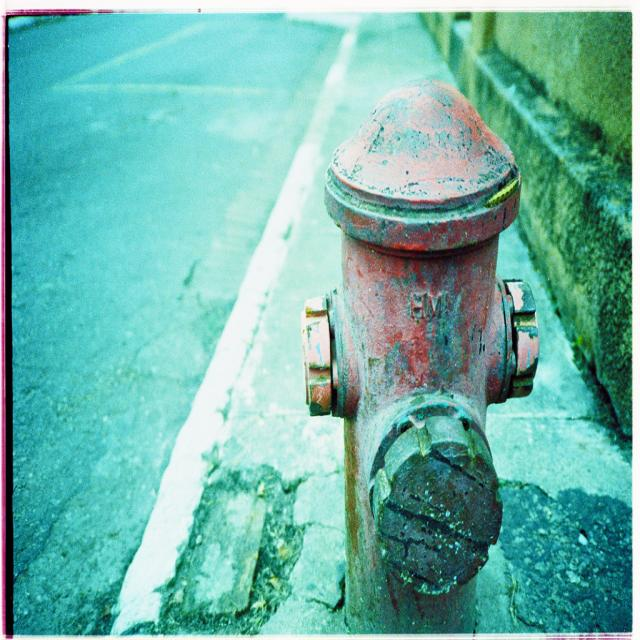fire_hydrant: (302, 79, 539, 632)
